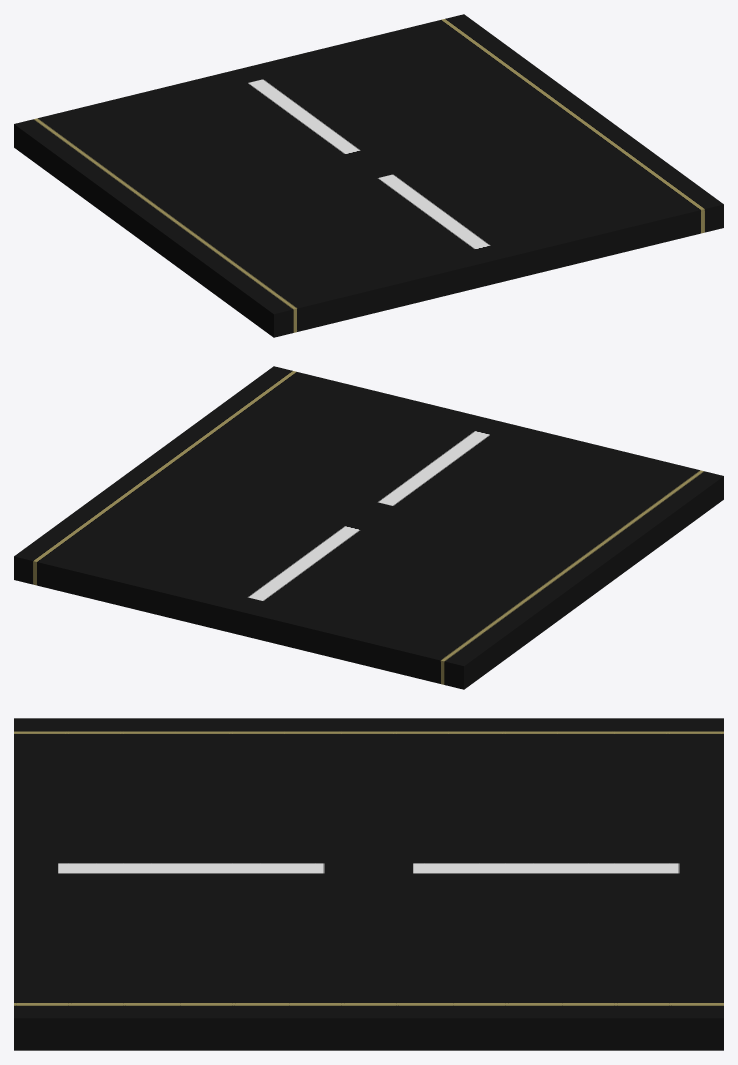
Rendered from Road2.fbx.
3 renders of one model, top to bottom at view 1: azimuth 30°, elevation 25°; view 2: azimuth 150°, elevation 25°; view 3: azimuth 270°, elevation 25°, orthographic. The views are drawn at different scales.
Parts seen in each view (by area): view 1: Road; view 2: Road; view 3: Road.
Part boxes in pixels (box(x1,y1,x2,y2)): Road: box(14, 14, 723, 337); Road: box(14, 366, 723, 689); Road: box(14, 718, 723, 1050).
Size of the model in its own units: 200 by 10 by 200.
